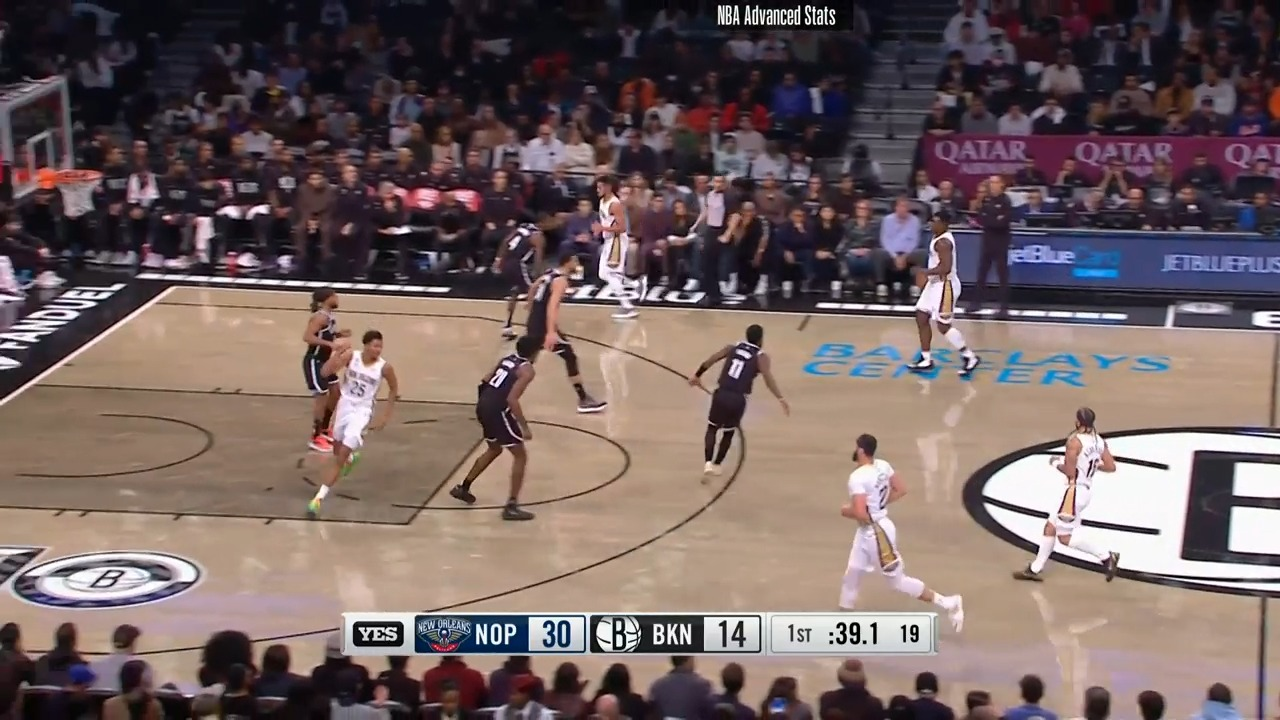net: (38, 163, 105, 224)
player: (829, 431, 959, 619), (444, 331, 552, 521), (303, 327, 406, 520), (1020, 405, 1128, 585), (688, 323, 790, 493), (509, 250, 602, 415), (898, 213, 974, 380), (293, 284, 355, 457), (578, 177, 638, 323), (498, 208, 560, 338)
referee: (693, 172, 735, 307)
